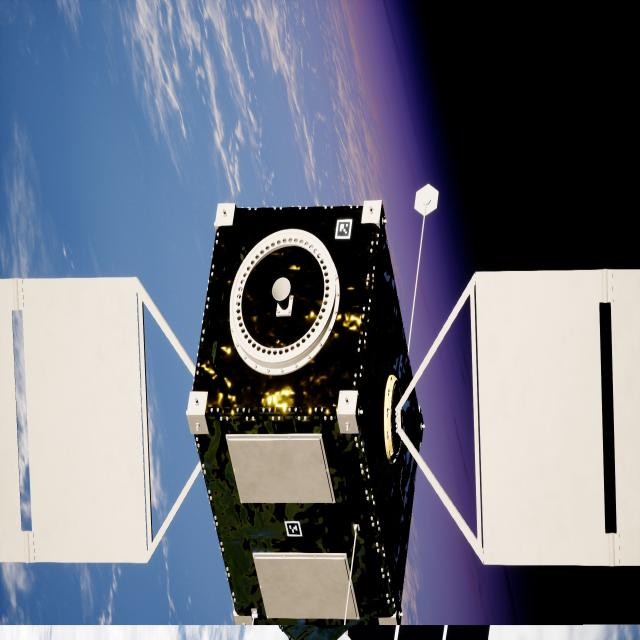satellite: (0, 202, 640, 624)
